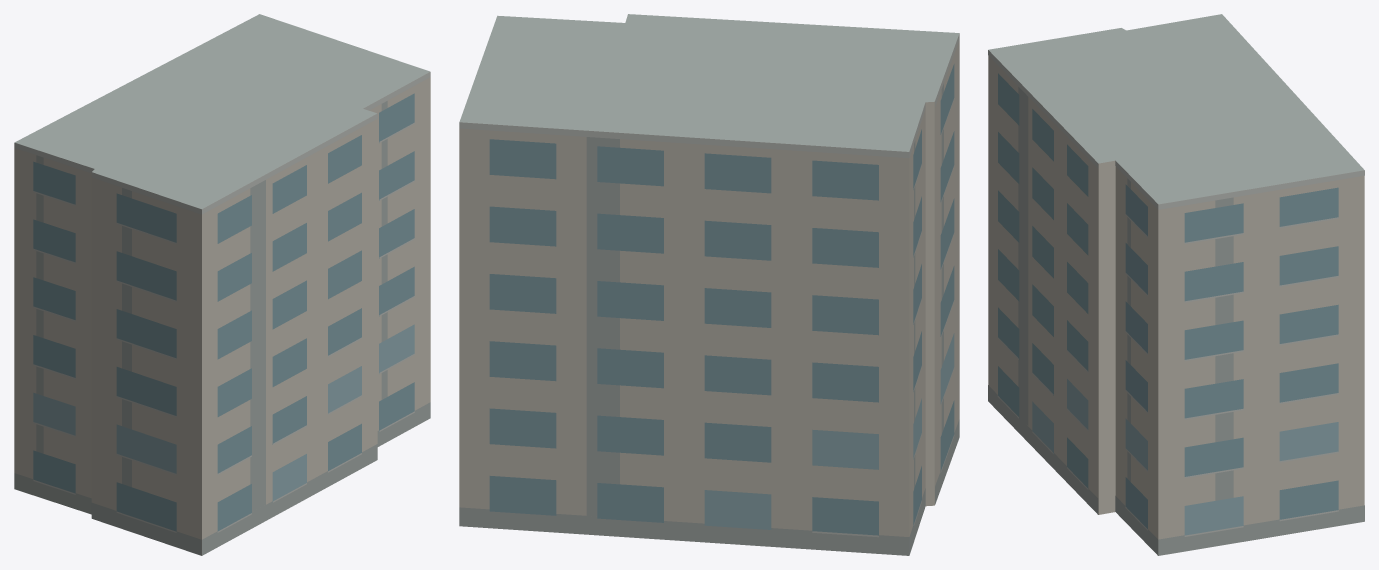
Rendered from survey-upis-32845582.glb.
The picture shows the model from 3 angles, left to right: view 1: azimuth 30°, elevation 25°; view 2: azimuth 150°, elevation 25°; view 3: azimuth 270°, elevation 25°; orthographic projection. The views are drawn at different scales.
Visible parts, largest first — view 1: survey-upis-32845582.tmp; view 2: survey-upis-32845582.tmp; view 3: survey-upis-32845582.tmp.
Boxes of the visible parts, box(x1,y1,x2,y2) form: survey-upis-32845582.tmp: box(14, 14, 430, 555); survey-upis-32845582.tmp: box(459, 14, 959, 555); survey-upis-32845582.tmp: box(988, 14, 1364, 555).
Size of the model in its own units: 18.26 by 15.7 by 15.26.
